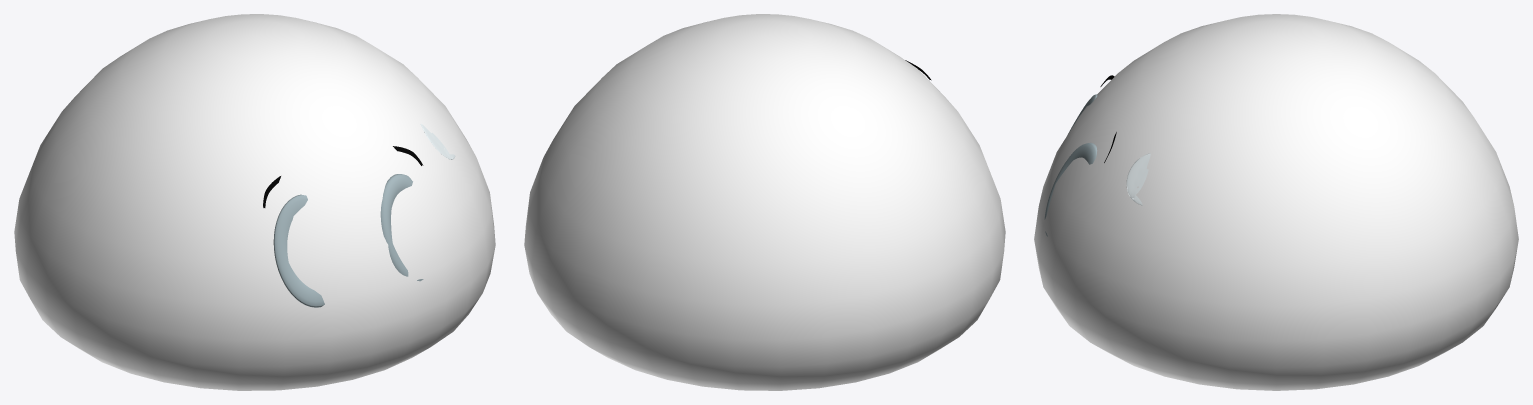
File: Timu.fbx
The picture shows the model from 3 angles, left to right: view 1: azimuth 30°, elevation 25°; view 2: azimuth 150°, elevation 25°; view 3: azimuth 270°, elevation 25°; orthographic projection.
Visible parts, largest first — view 1: skin 2, righteyeline, lefteyeline; view 2: skin 2; view 3: skin 2, sparkle, lefteyeline.
Part boxes in pixels (<box>): skin 2: <box>14,14,495,390</box>; righteyeline: <box>273,194,324,307</box>; lefteyeline: <box>380,174,423,281</box>; skin 2: <box>524,14,1005,390</box>; skin 2: <box>1034,14,1518,390</box>; sparkle: <box>1126,153,1150,205</box>; lefteyeline: <box>1044,142,1097,236</box>.
Bounding box in the file's own units: 200 × 130 × 200.
